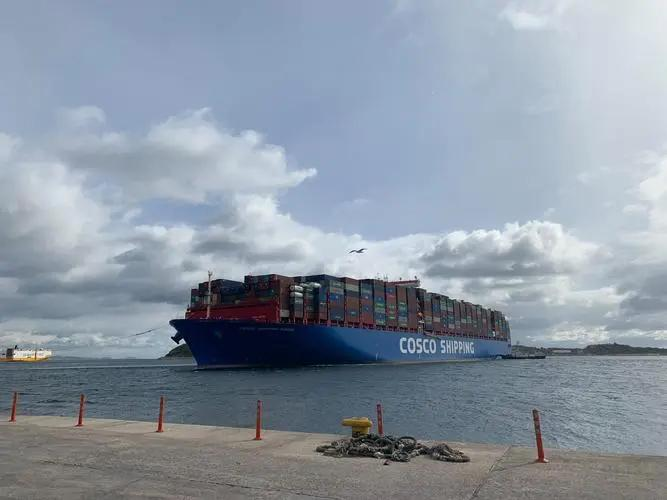Ship: (172, 275, 515, 369)
